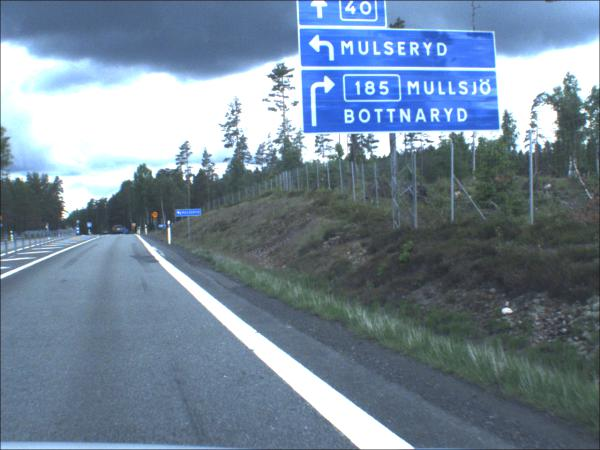70_SIGN: (153, 212, 161, 220), (133, 224, 138, 228)
PASS_RIGHT_SIDE: (88, 223, 94, 229)
PRIORITY_ROAD: (134, 227, 138, 231)
